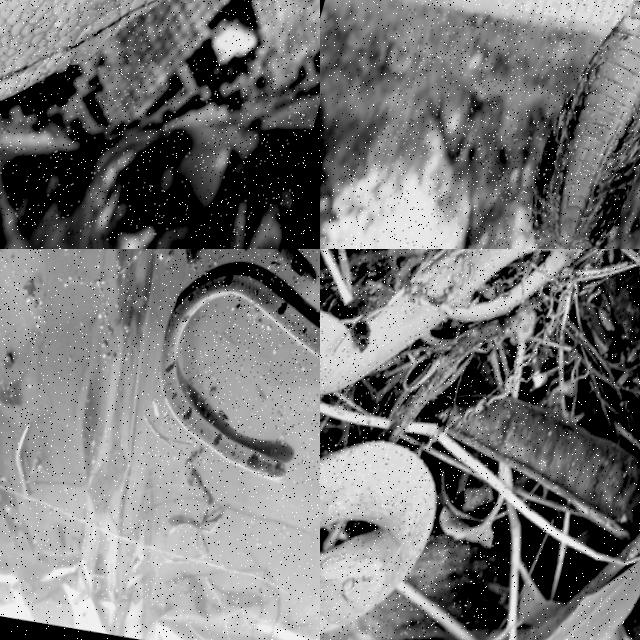Calliophis maculiceps: (162, 274, 319, 479)
Malayopython reticulatus: (0, 0, 319, 153)
Naja siamensis: (532, 0, 639, 248)
Trimeresurus: (320, 441, 435, 632)
